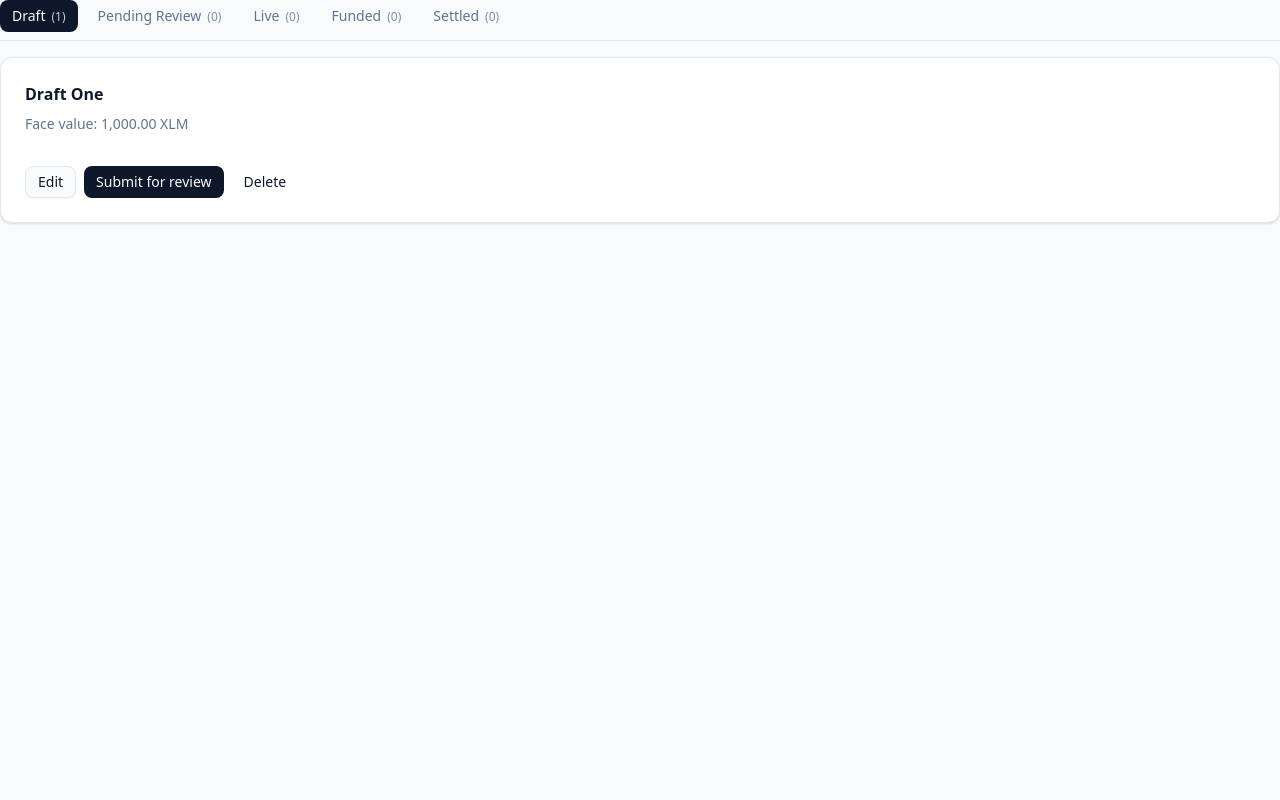
Scenario: delete confirmation › names the invoice being deleted
This screenshot has width=1280, height=800.
Click the button with test id "delete-invoice-d1" at (265, 182), box top-left (232, 166), bottom-right (298, 198)
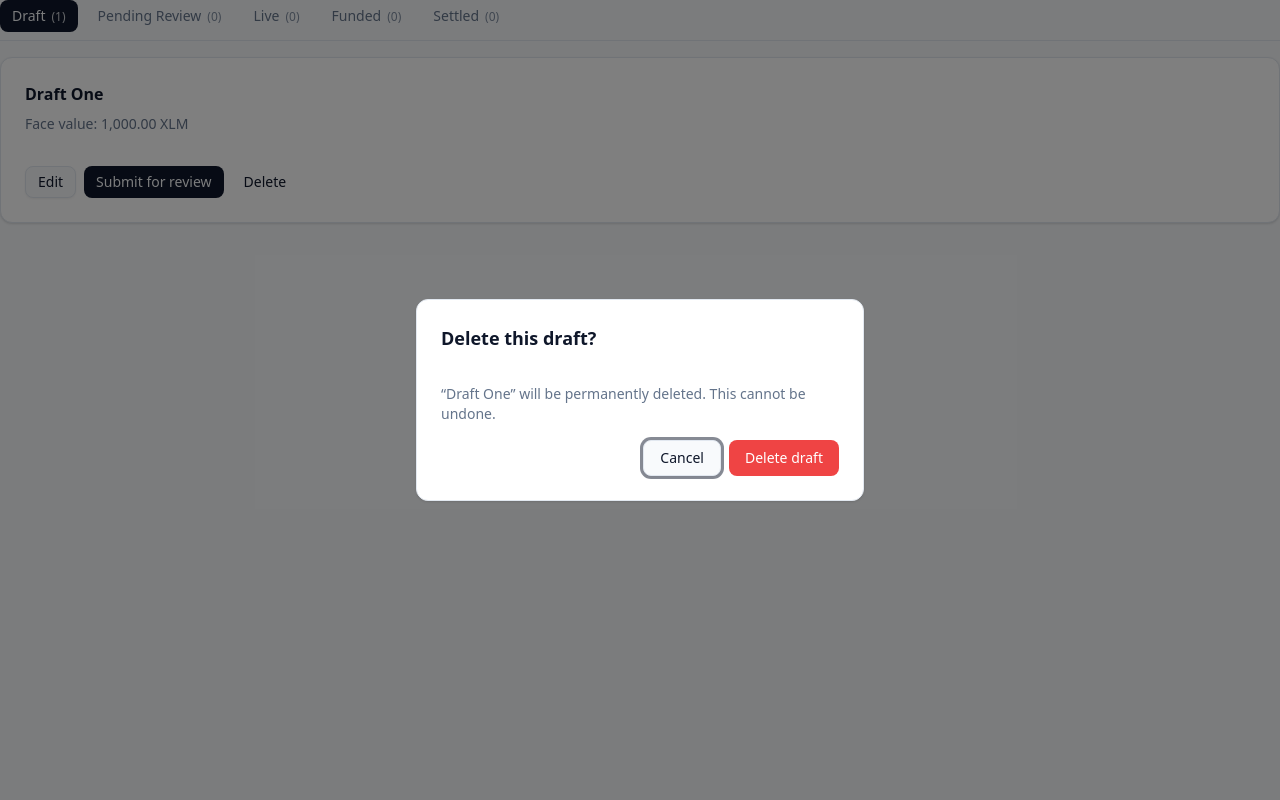
Expected: the dialog shows "Draft One", top-left (446, 384), bottom-right (510, 403)
